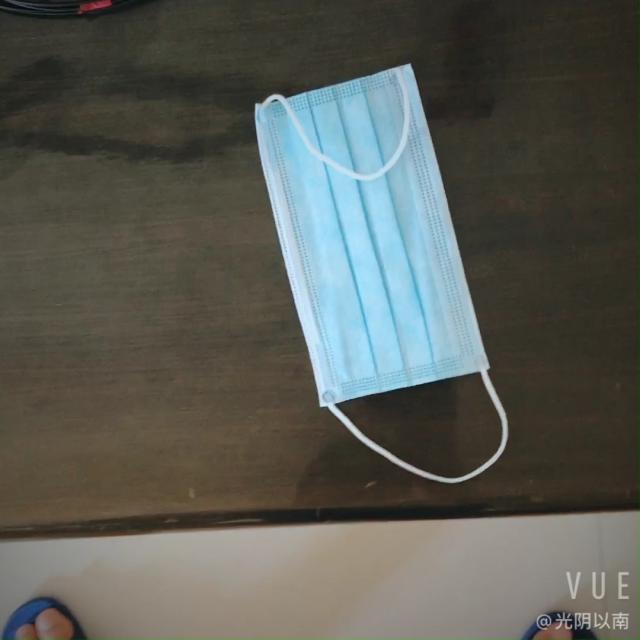face mask: (233, 61, 502, 454)
